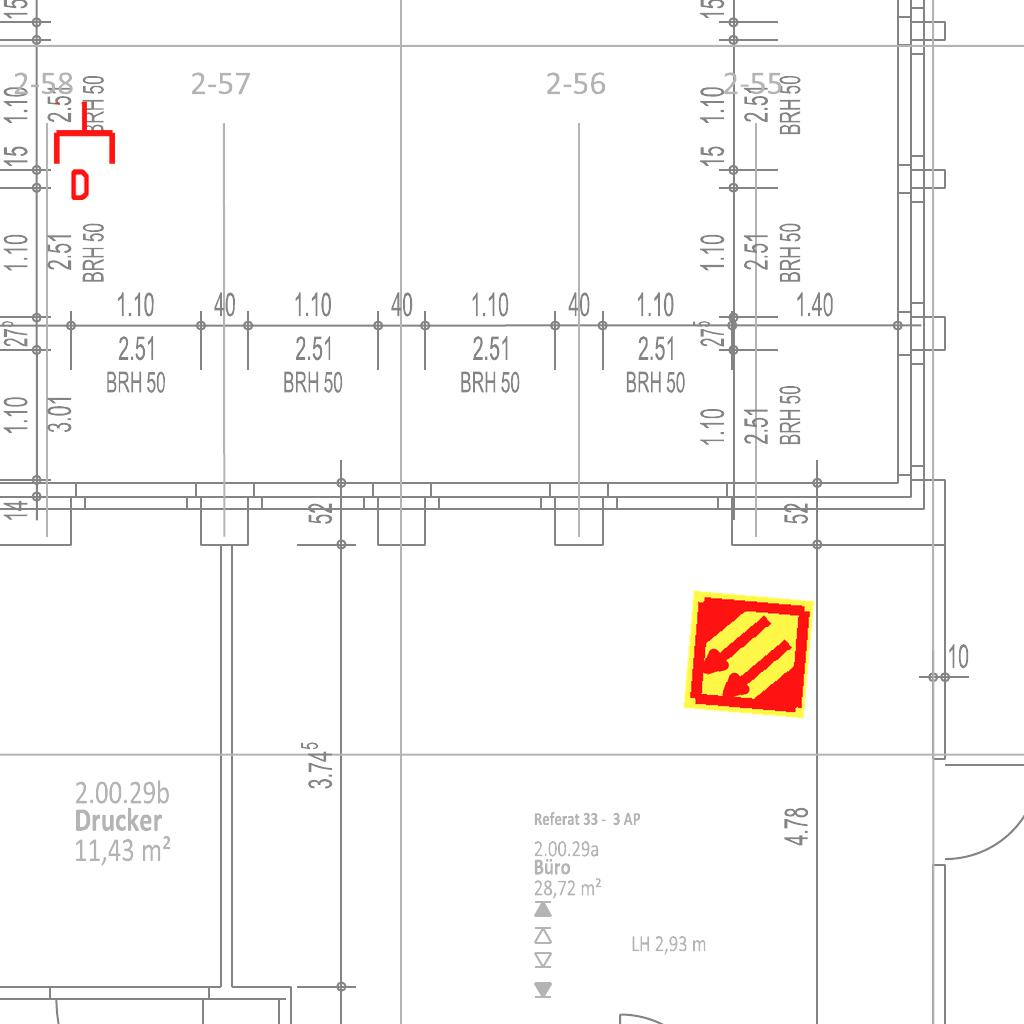ASR_Ansaugrauchmelder: (680, 586, 817, 723)
Datenanschluss_einfach: (50, 100, 119, 200)
